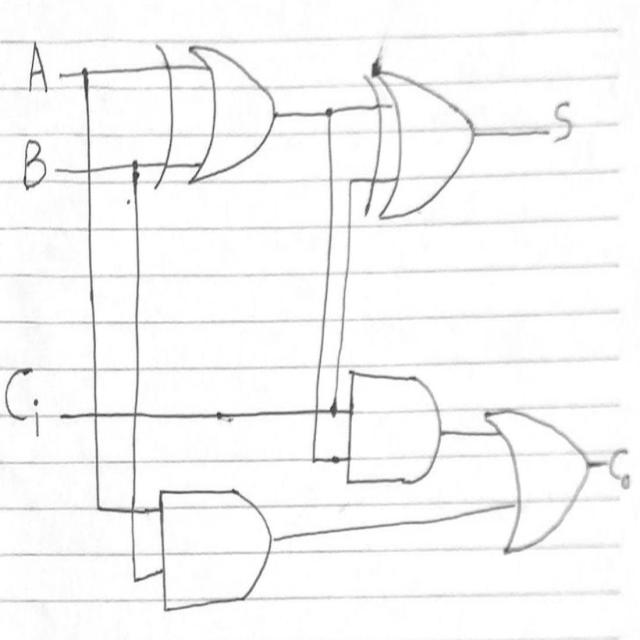AND: (149, 475, 279, 623), (344, 359, 450, 495)
OR: (479, 386, 599, 564)
XOR: (142, 21, 288, 206), (354, 44, 482, 228)
